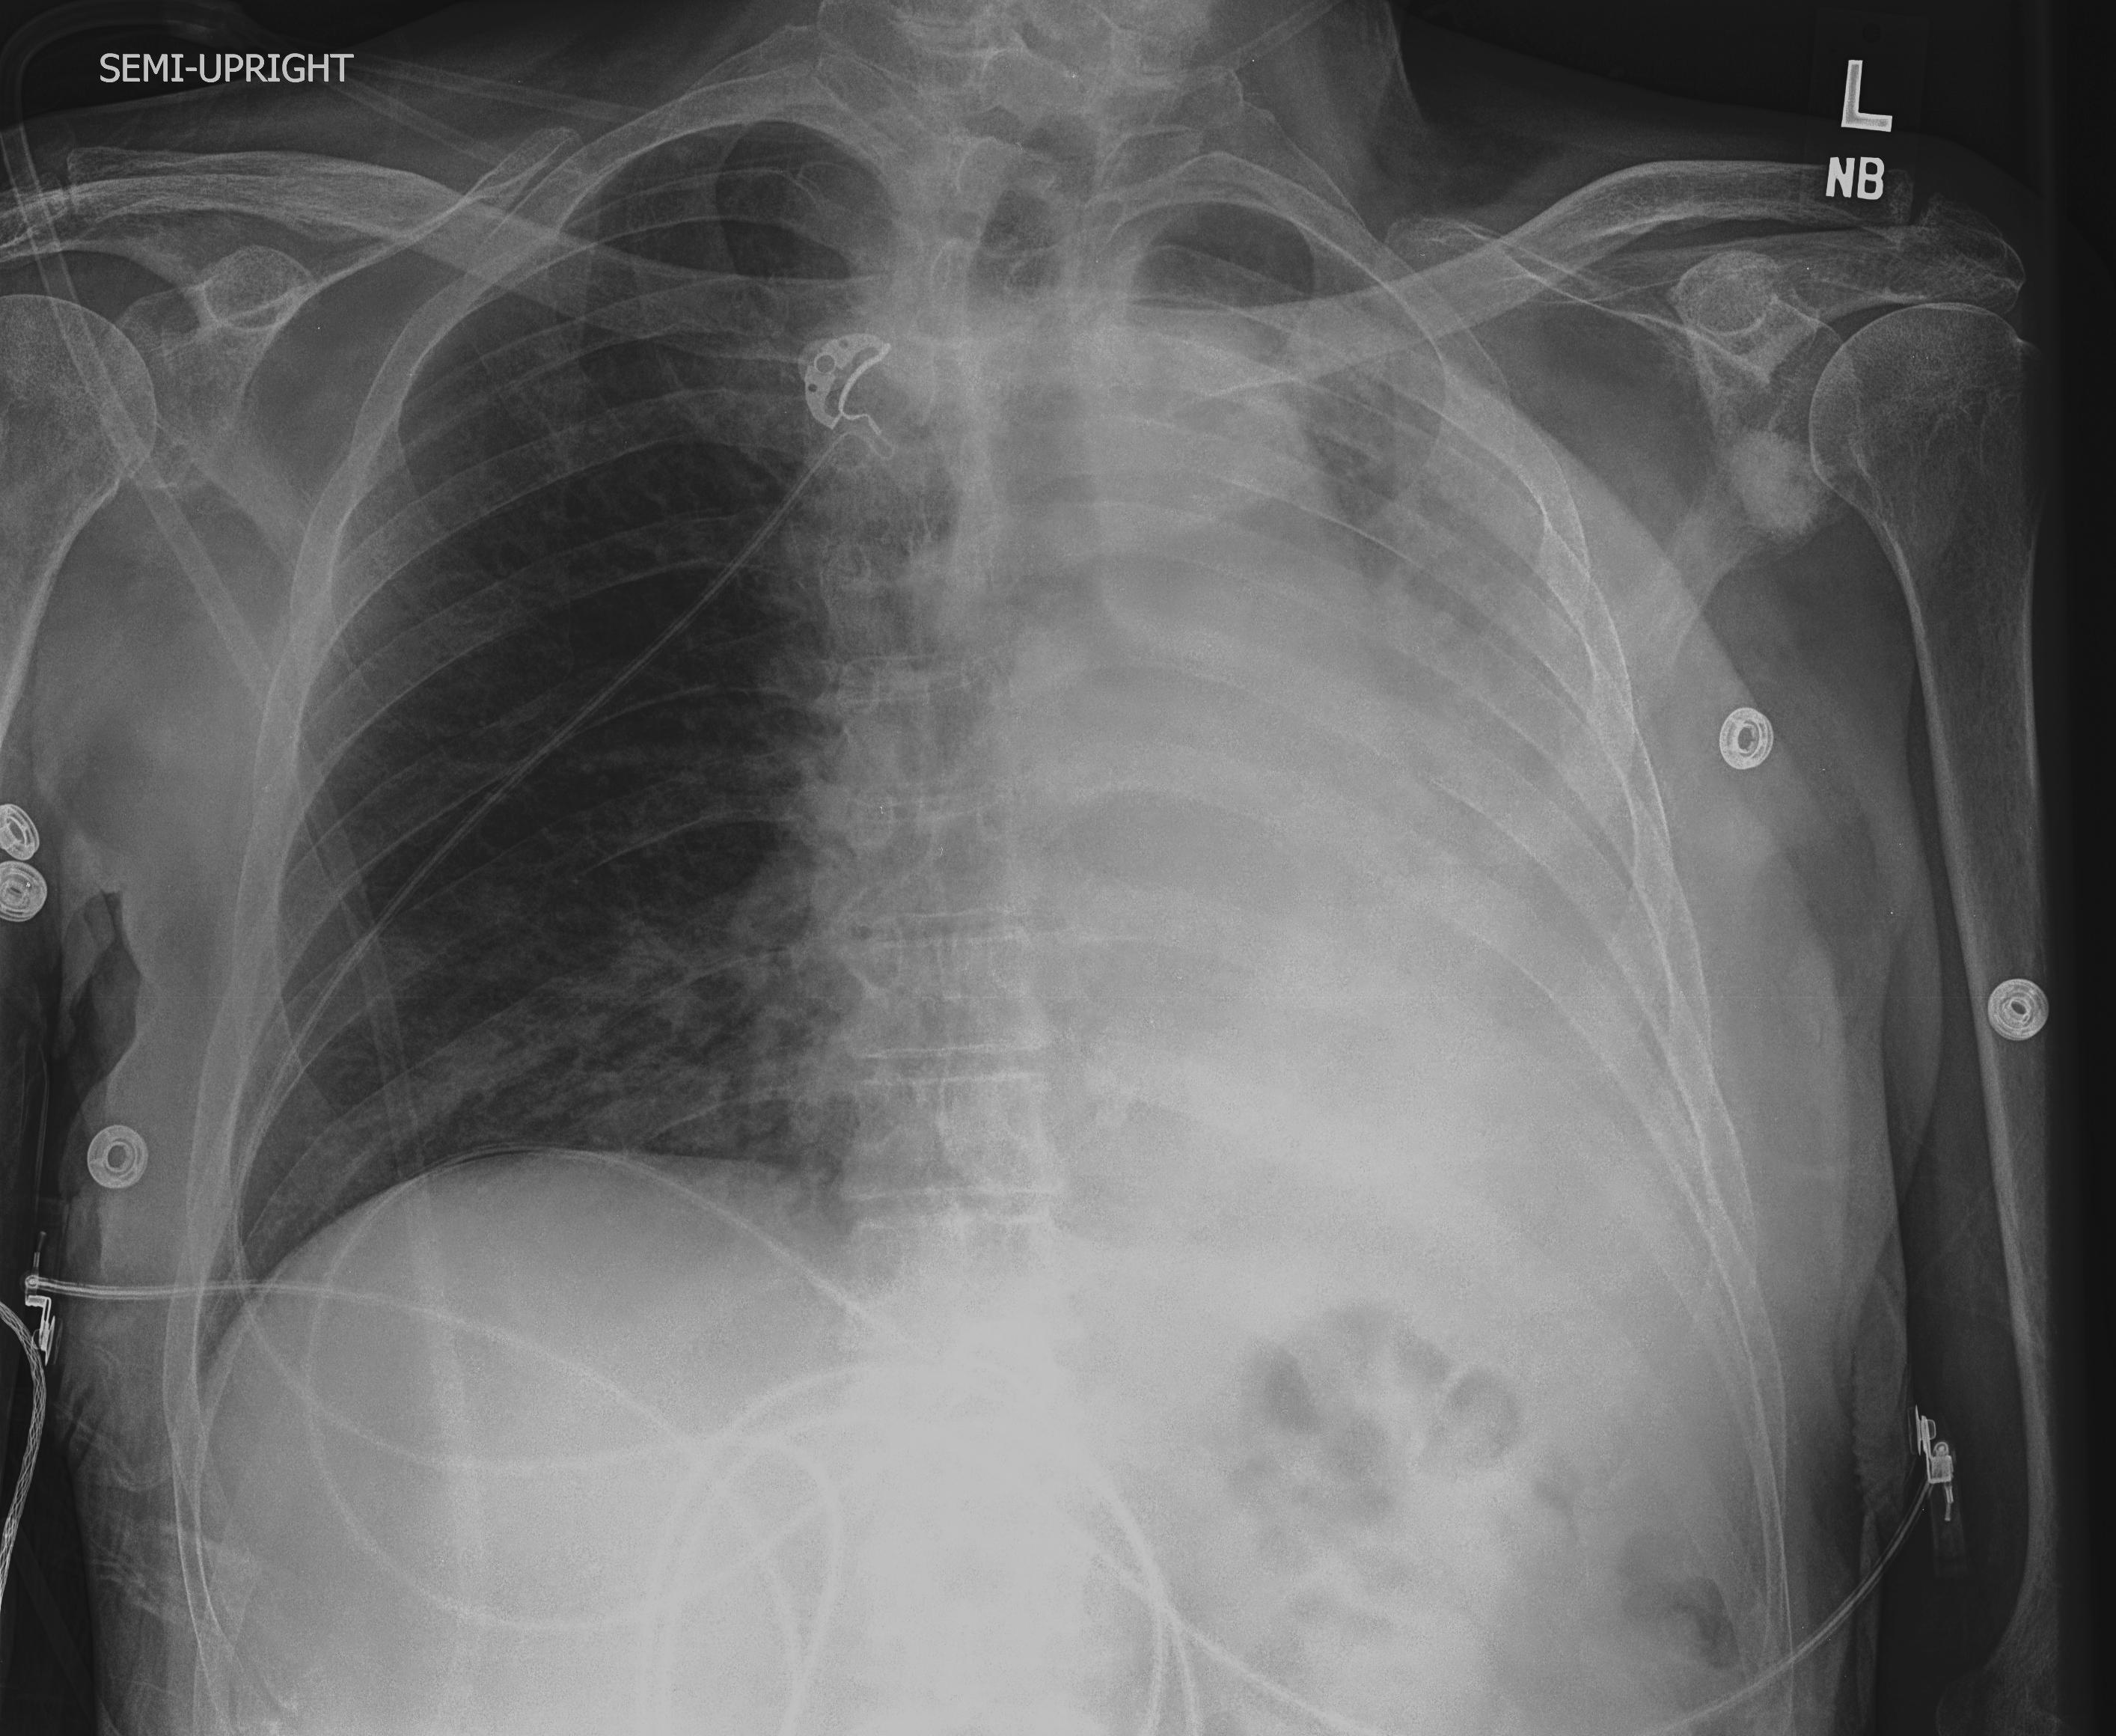Pleural Effusion: (1195, 611, 1763, 1379)
